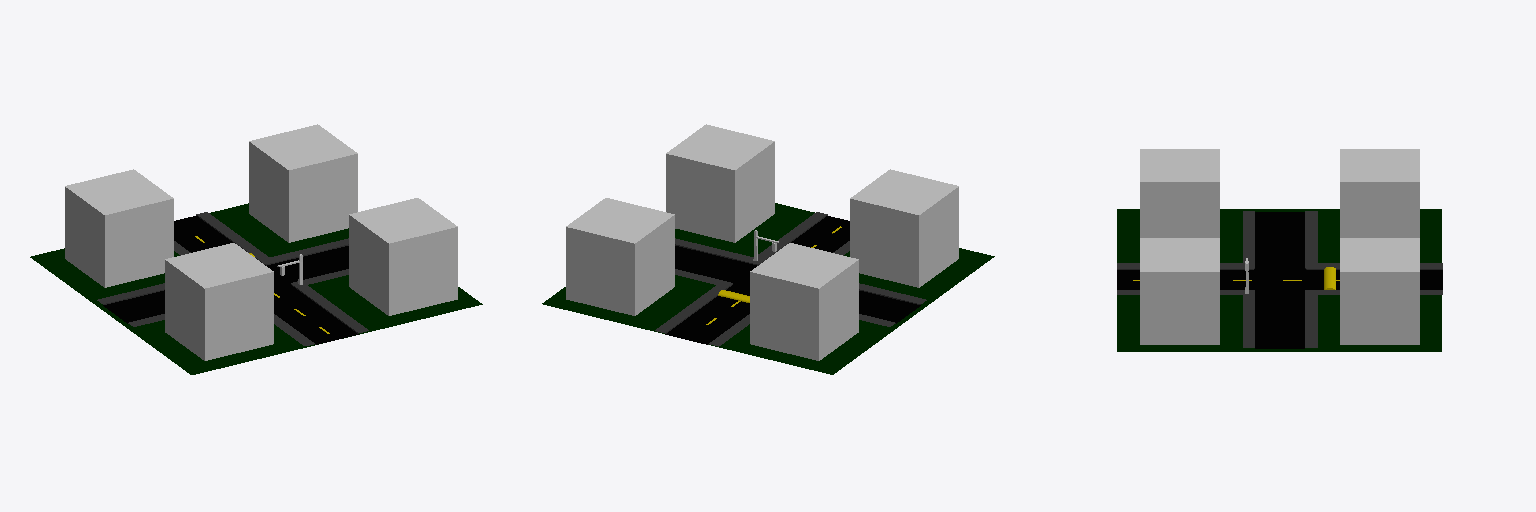
Rendered from env_basic.obj.
3 renders of one model, left to right at view 1: azimuth 30°, elevation 25°; view 2: azimuth 150°, elevation 25°; view 3: azimuth 270°, elevation 25°, orthographic.
Visible parts, largest first — view 1: Cube.002_Cube.004, Cube.004_Cube.006, Cube.005_Cube.007, Cube.003_Cube.005, Plane.005_Plane.002, Plane, Plane.004_Plane, Plane.003_Plane, Plane.002_Plane, Plane.001; view 2: Cube.003_Cube.005, Cube.005_Cube.007, Cube.004_Cube.006, Cube.002_Cube.004, Plane.005_Plane.002, Plane.004_Plane, Plane.003_Plane, Plane, Plane.002_Plane, Plane.001; view 3: Plane.005_Plane.002, Cube.002_Cube.004, Cube.003_Cube.005, Cube.004_Cube.006, Cube.005_Cube.007, Plane.003_Plane, Plane.002_Plane, Plane.001, Plane, Plane.004_Plane.
Part boxes in pixels (x1,y1,x2,y2): Cube.002_Cube.004: (349,198,457,315); Cube.004_Cube.006: (165,243,273,360); Cube.005_Cube.007: (65,169,173,287); Cube.003_Cube.005: (249,124,357,242); Plane.005_Plane.002: (30,203,482,374); Plane: (274,285,368,345); Plane.004_Plane: (174,212,269,259); Plane.003_Plane: (270,238,348,284); Plane.002_Plane: (97,283,164,326); Plane.001: (259,258,306,293); Cube.003_Cube.005: (566,198,674,315); Cube.005_Cube.007: (750,243,858,360); Cube.004_Cube.006: (850,169,958,287); Cube.002_Cube.004: (666,124,774,242); Plane.005_Plane.002: (542,203,994,374); Plane.004_Plane: (655,285,749,346); Plane.003_Plane: (675,238,753,284); Plane: (758,212,849,259); Plane.002_Plane: (859,283,926,326); Plane.001: (717,258,764,293); Plane.005_Plane.002: (1117,209,1441,351); Cube.002_Cube.004: (1140,238,1219,344); Cube.003_Cube.005: (1340,238,1419,344); Cube.004_Cube.006: (1140,149,1219,237); Cube.005_Cube.007: (1340,149,1419,237); Plane.003_Plane: (1243,295,1317,348); Plane.002_Plane: (1243,211,1317,264); Plane.001: (1243,263,1317,295); Plane: (1117,263,1242,294); Plane.004_Plane: (1318,263,1442,294).
Bounding box in the file's own units: 26.9 × 8.5 × 26.